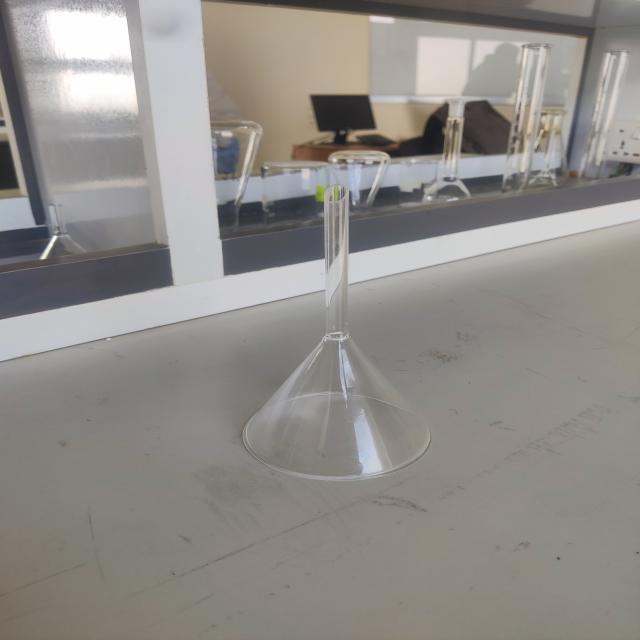Funnel: (209, 160, 461, 507)
